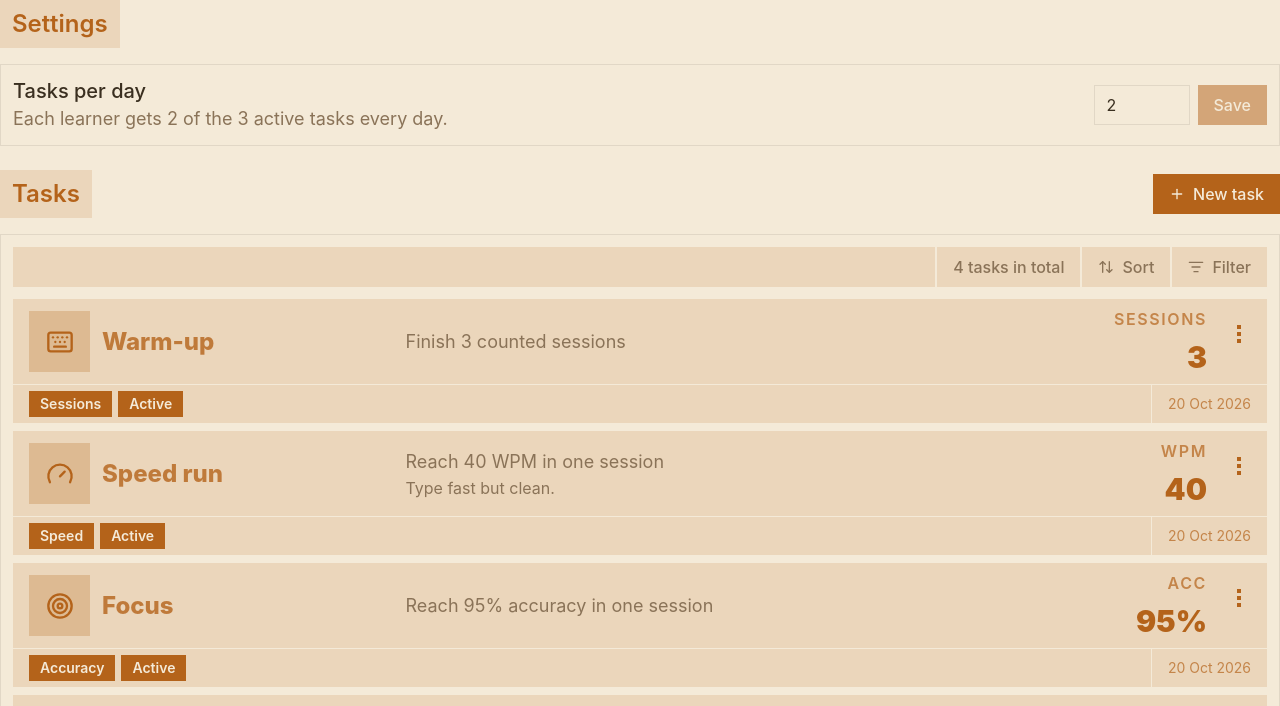
Test case: AdminDailyTasksPage › edits a task from the kebab menu of its card
Step 1. Click the button named "Actions for Speed run" → (1239, 466), box [1223,450,1255,482]
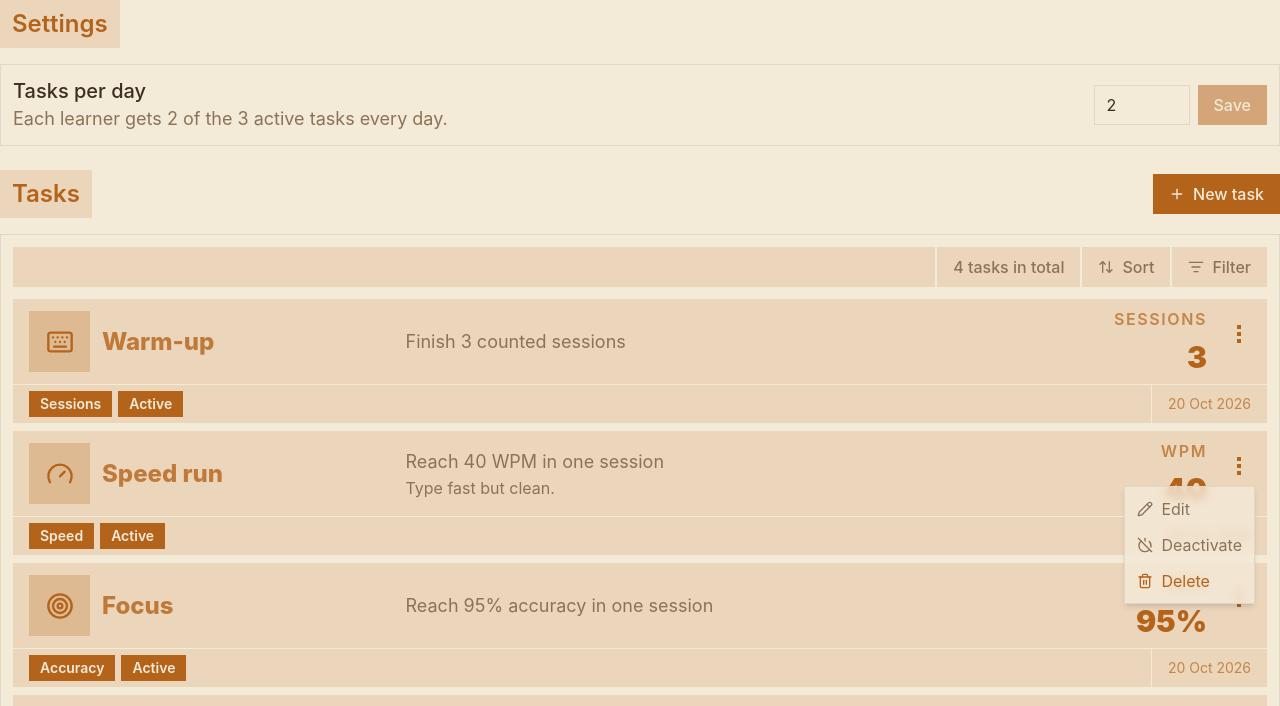
Step 2. Click the menu item "Edit" → (1164, 509), box [1137,499,1190,519]
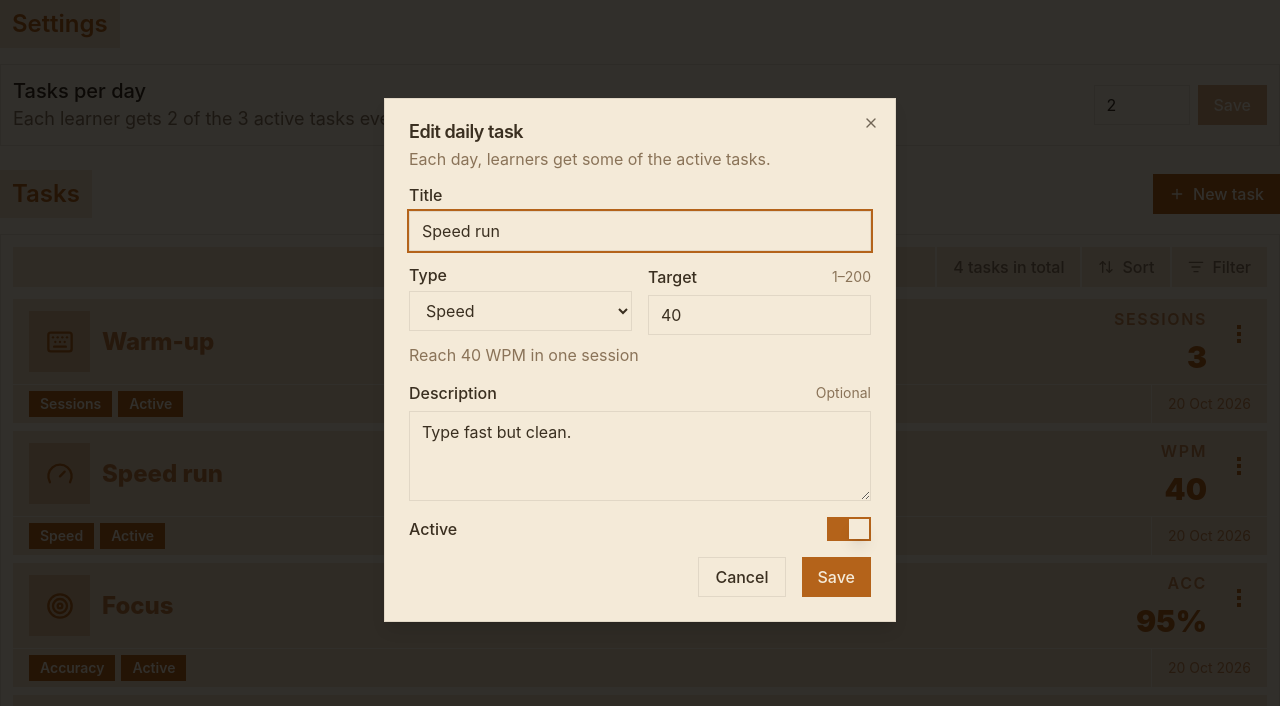
Expected: the field labelled "Title" holds "Speed run", [409,211,871,251]
Expected: the dropdown labelled "Type" shows "Speed", [409,291,632,331]
Step 3. Replace the text in the number field labelled "Target" with "45" → (760, 315), box [648,295,871,335]
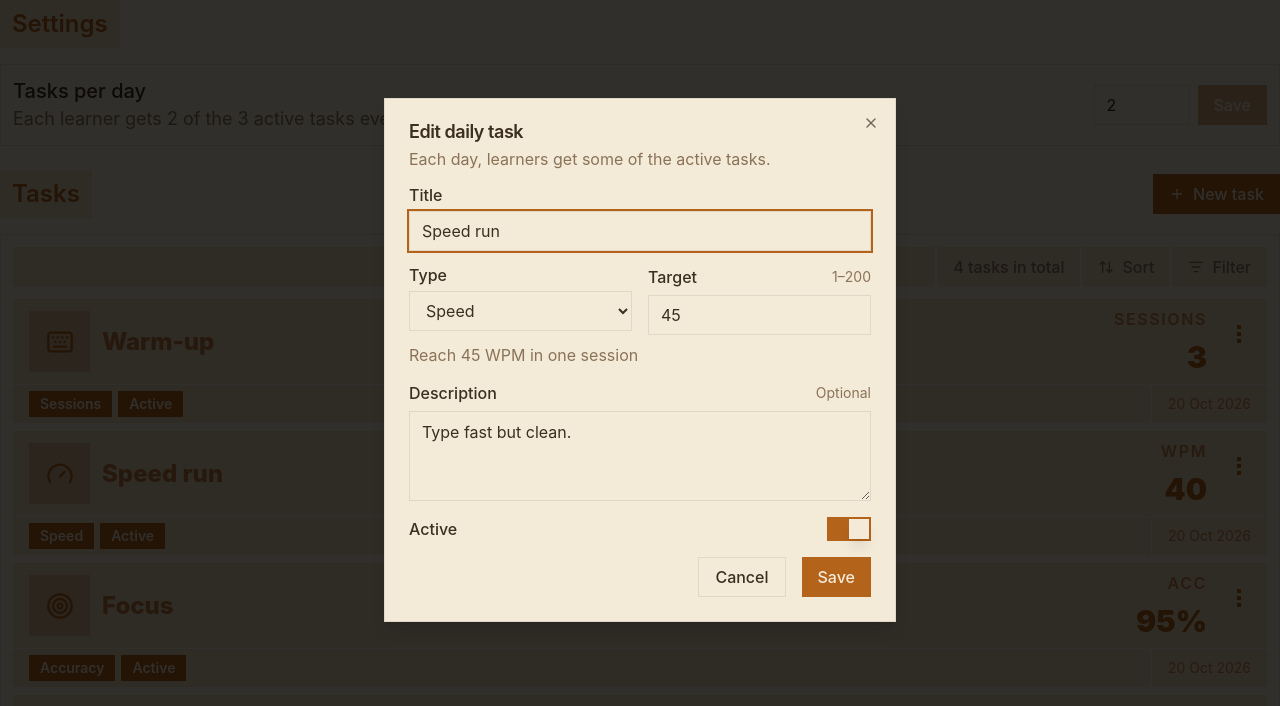
Step 4. Click the button "Save" → (836, 577), box [802,557,871,597]
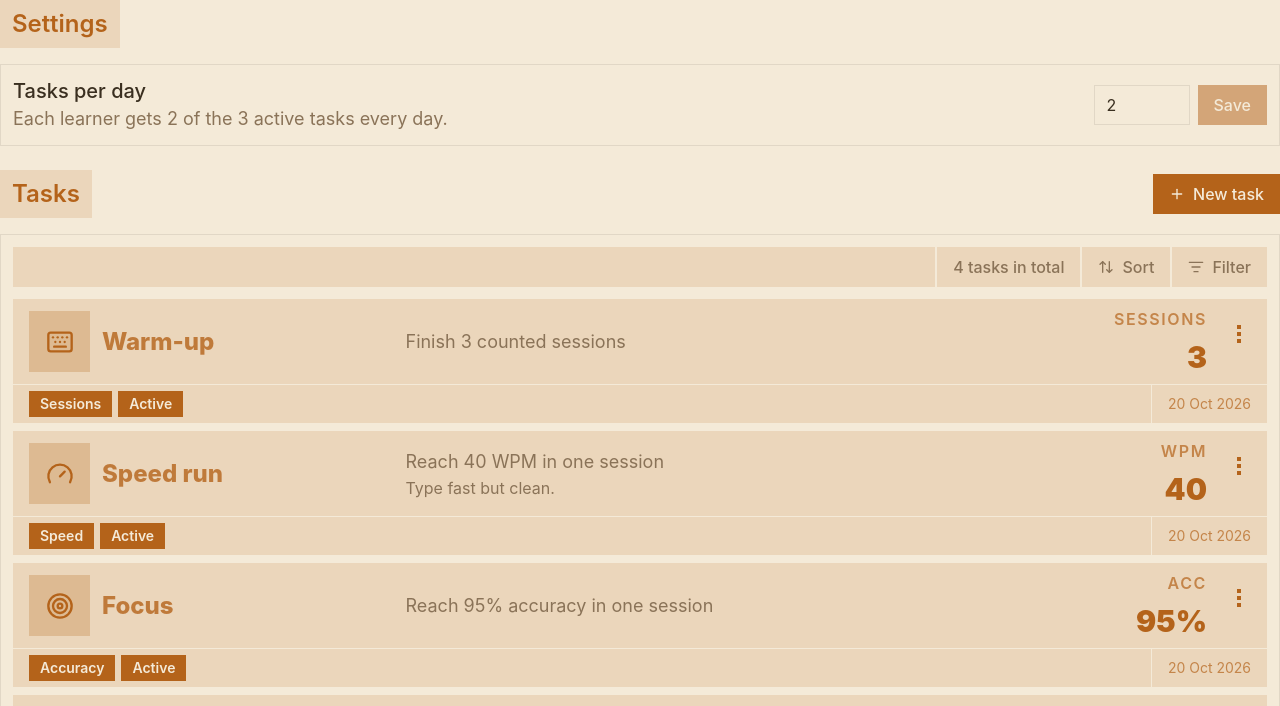
Expected: the dialog is gone
